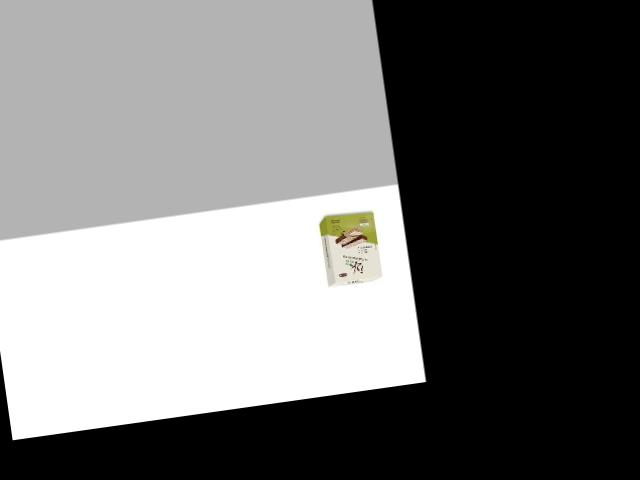chocolate: (313, 207, 384, 288)
